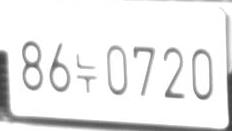0: (192, 48, 213, 101), (106, 45, 127, 95)
2: (162, 47, 185, 98)
6: (48, 43, 70, 91)
7: (133, 45, 155, 96)
8: (21, 40, 43, 90)
누: (75, 53, 97, 92)
